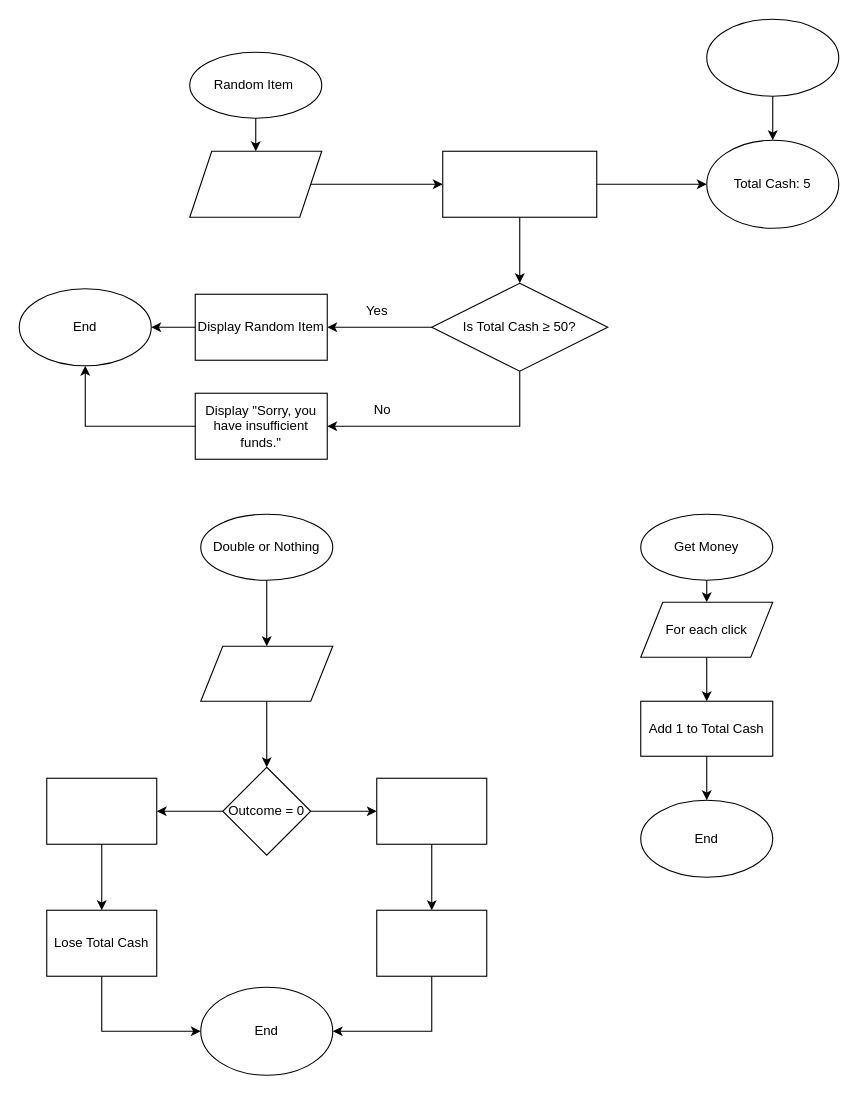
The diagram is 858 pixels wide and 1095 high, and some of its shapes have lost their labels. The shapes that lost their labels are listed below. From the top down, each one's centre as x and y in pixels, then its label:
At point (772, 57): "Start Program".
At point (255, 183): "Buy".
At point (519, 183): "Checks Total Cash".
At point (266, 673): "Start".
At point (101, 810): "Tails".
At point (431, 810): "Heads".
At point (431, 942): "Double Total Cash".
